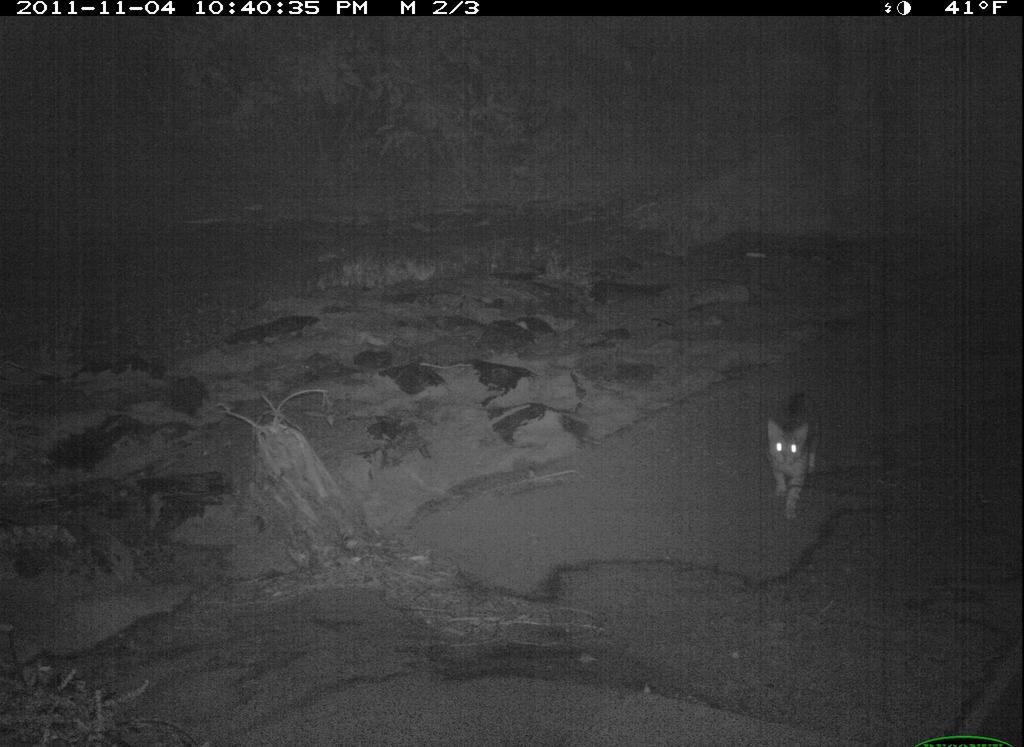cat: (748, 385, 840, 525)
